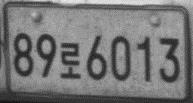0: (109, 35, 131, 81)
1: (135, 35, 152, 83)
3: (157, 37, 180, 83)
6: (85, 34, 107, 80)
8: (12, 32, 34, 76)
9: (35, 33, 57, 77)
로: (59, 42, 82, 79)
